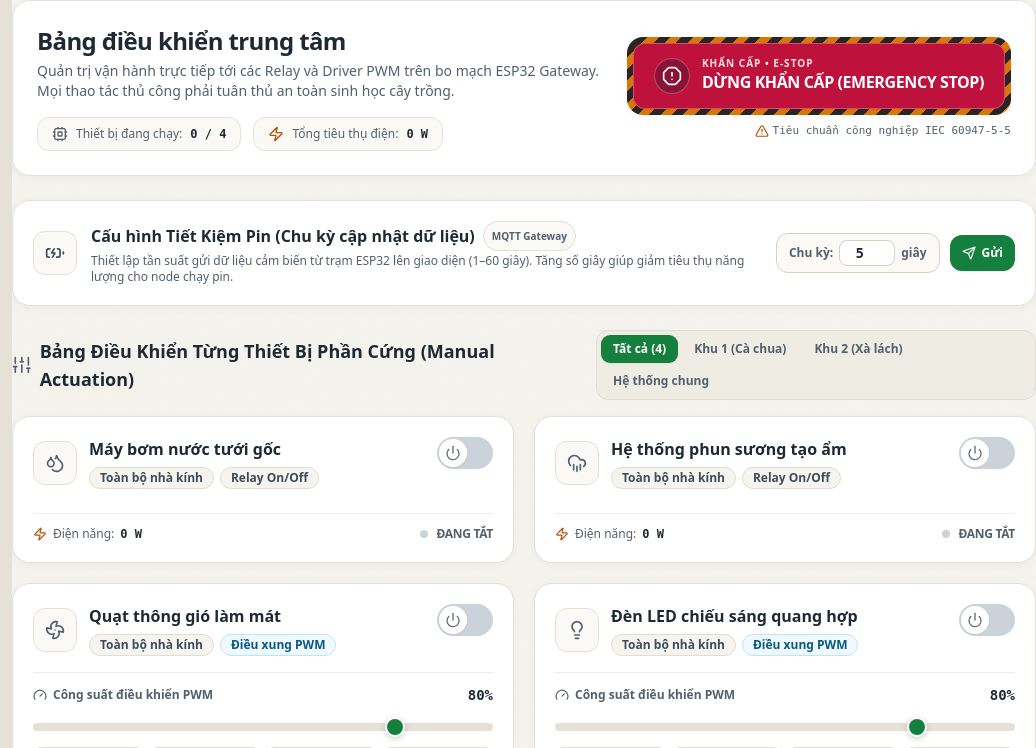
Scenario: CHALLENGER 1: EMPIRICAL FUNCTIONAL VERIFICATION SUITE › Domain 1: Actuator Control Flow & E-Stop Latch State › EMPIRICAL: Industrial E-Stop latches EMERGENCY HALTED state and Re-arm resets it cleanly
Check: the text "Cờ Trạng Thái: EMERGENCY HALTED" is not shown
Note: Click E-Stop
Click the button "KHẨN CẤP • E-STOP DỪNG KHẨN CẤP (EMERGENCY STOP)".
click(819, 76)  # box [633, 43, 1005, 109]
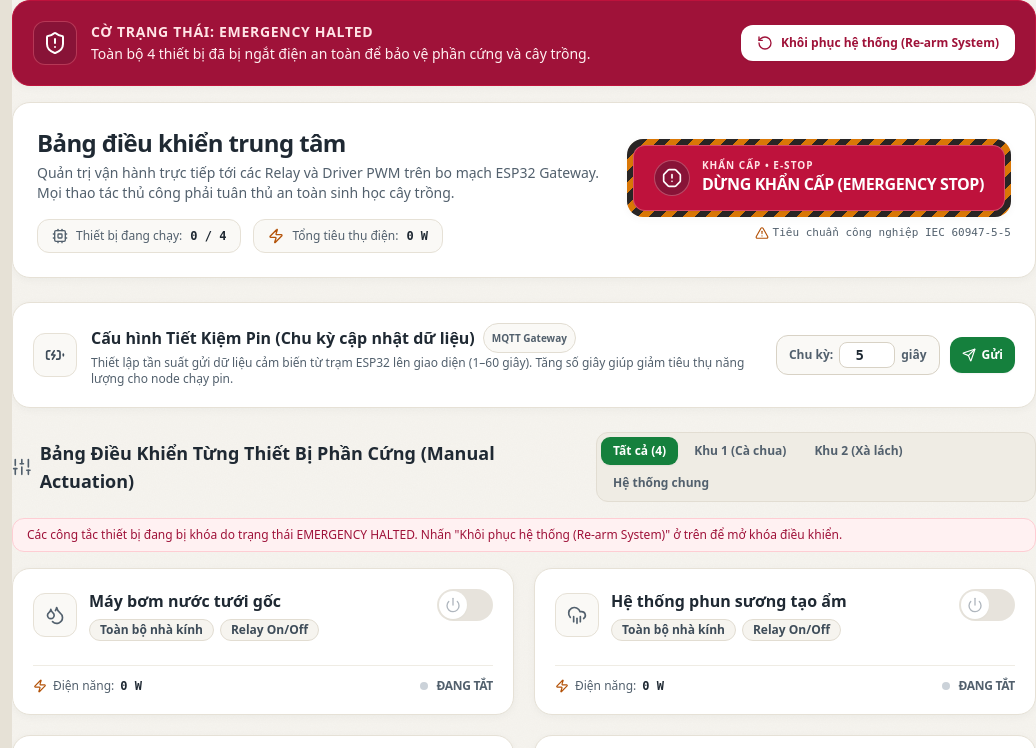
Check: the text "Cờ Trạng Thái: EMERGENCY HALTED" is shown, box [91, 22, 373, 41]
Check: the text "Toàn bộ 4 thiết bị đã bị ngắt điện an toàn để bảo vệ phần cứng và cây trồng." is shown, box [91, 44, 590, 64]
Check: the button "Khôi phục hệ thống (Re-arm System)" is shown
Click the button "Khôi phục hệ thống (Re-arm System)".
click(878, 43)  # box [741, 25, 1015, 61]
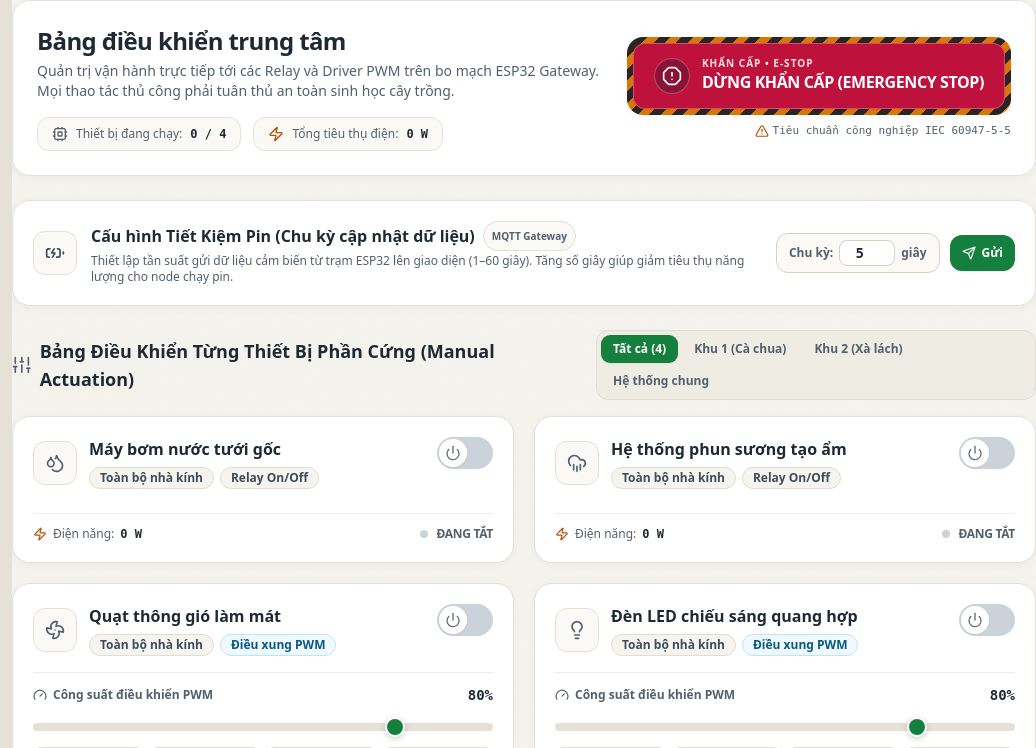
Check: the text "Cờ Trạng Thái: EMERGENCY HALTED" is gone
